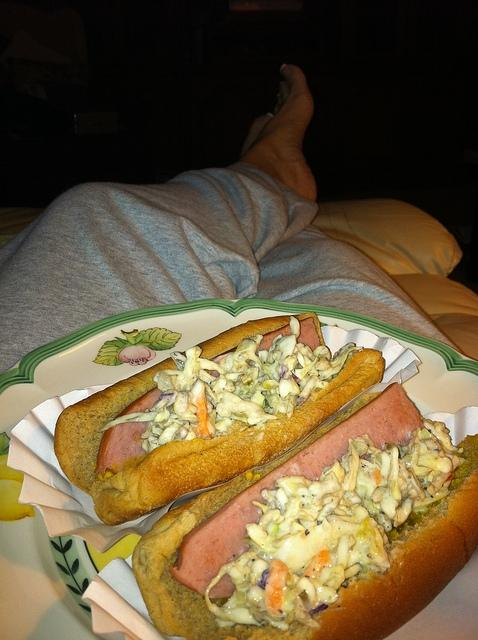carrot: (188, 379, 210, 437), (266, 558, 288, 612), (301, 550, 330, 579), (374, 468, 382, 486)
